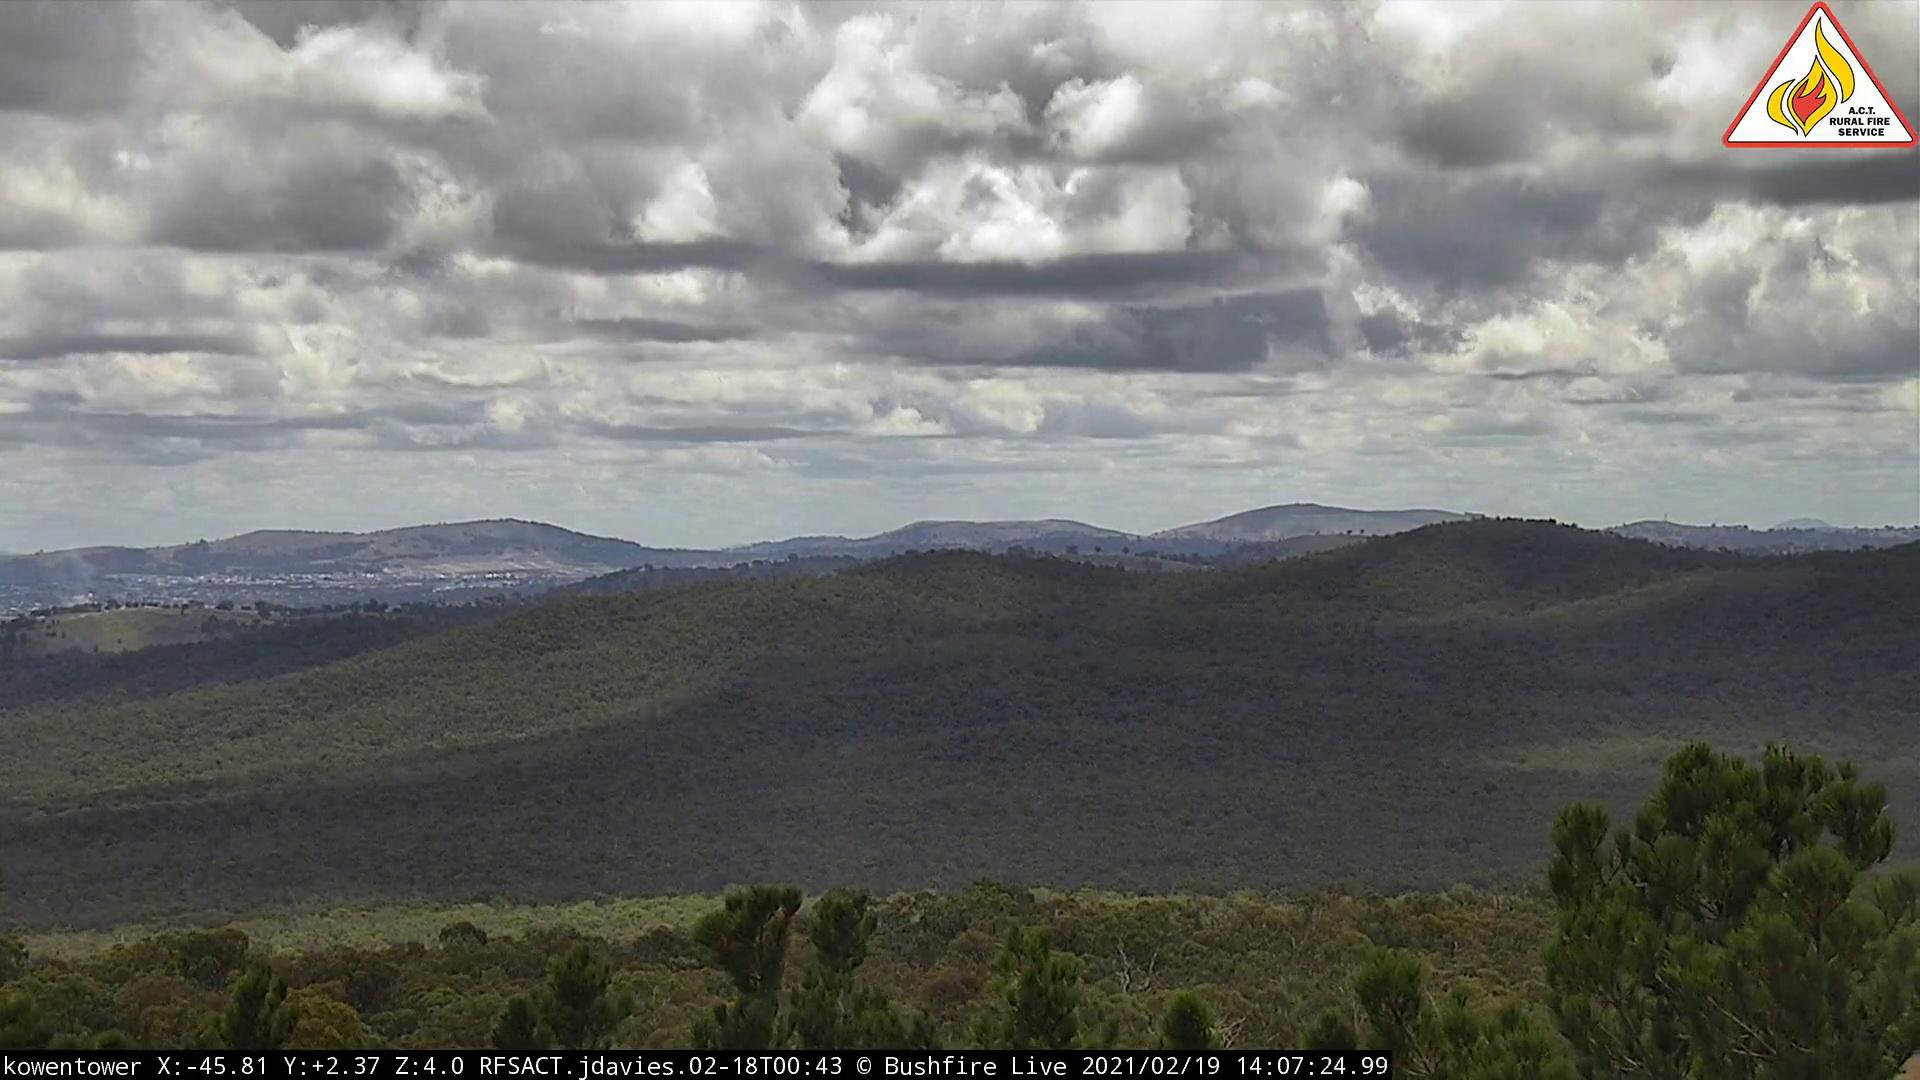Smoke: (70, 576, 112, 618)
